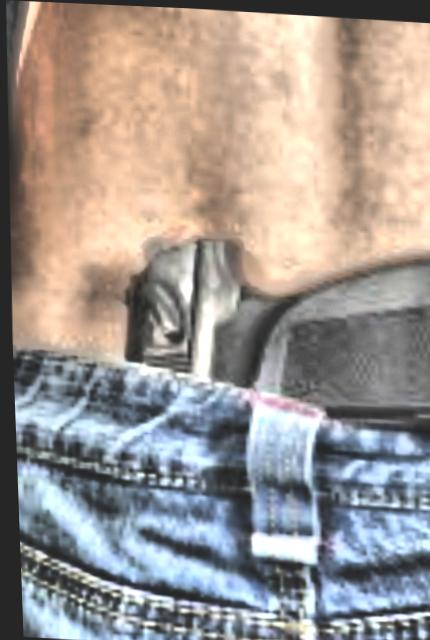pistol: (96, 211, 430, 437)
